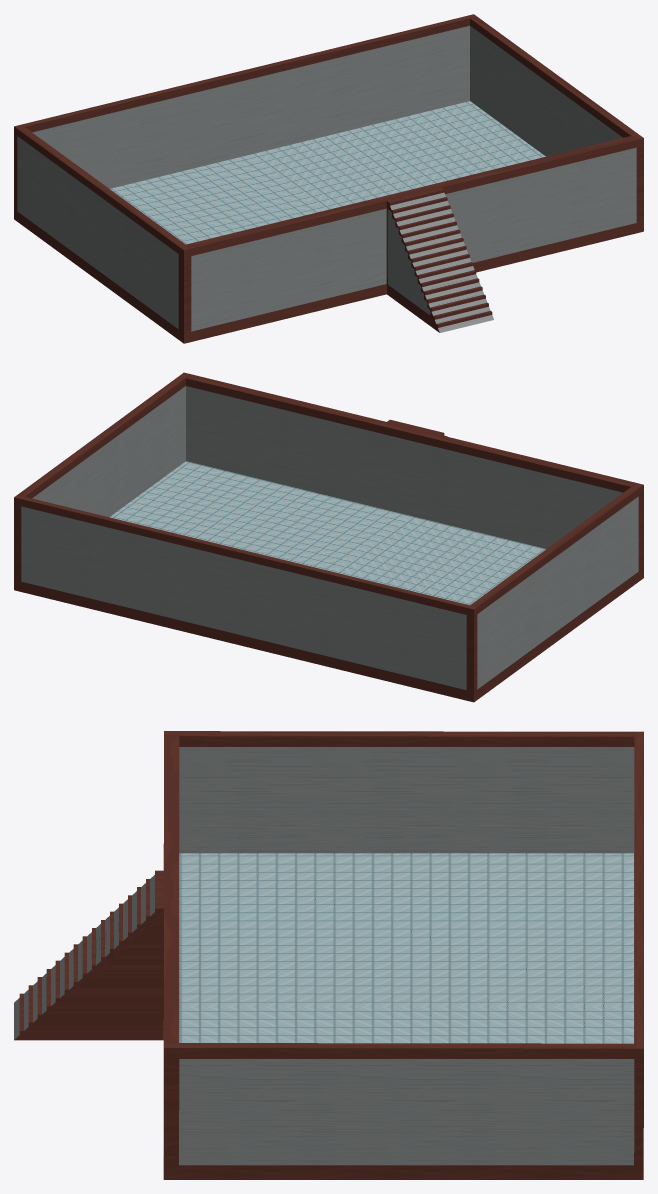
File: pool.fbx
3 views of the same model, one above another, from view 1: azimuth 30°, elevation 25°; view 2: azimuth 150°, elevation 25°; view 3: azimuth 270°, elevation 25° (orthographic). The views are drawn at different scales.
Parts seen in each view (by area): view 1: Cube, Cube.002, Cube.001; view 2: Cube; view 3: Cube, Cube.001, Cube.002.
Part boxes in pixels (box(x1,y1,x2,y2)): Cube: box(14, 14, 643, 343); Cube.002: box(386, 187, 492, 331); Cube.001: box(390, 192, 493, 332); Cube: box(14, 372, 643, 702); Cube: box(163, 731, 643, 1179); Cube.001: box(14, 875, 163, 1040); Cube.002: box(19, 870, 163, 1034).
Size of the model in its own units: 8306 by 1613 by 6979.
